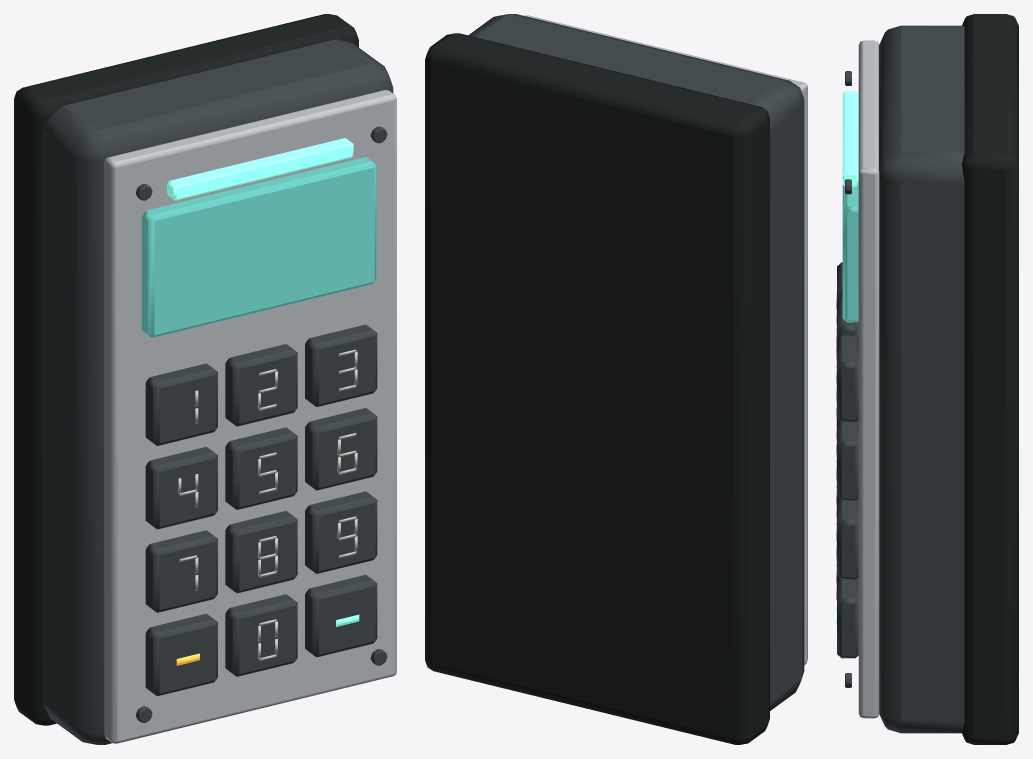
File: LP_Keypad.fbx
The picture shows the model from 3 angles, left to right: view 1: azimuth 30°, elevation 25°; view 2: azimuth 150°, elevation 25°; view 3: azimuth 270°, elevation 25°; orthographic projection. The views are drawn at different scales.
Visible parts, largest first — view 1: Keypad; view 2: Keypad; view 3: Keypad.
Part boxes in pixels (bbox=[...]): Keypad: bbox=[14, 14, 396, 744]; Keypad: bbox=[425, 14, 807, 744]; Keypad: bbox=[836, 14, 1018, 744].
Bounding box in the file's own units: 15.5 × 28.5 × 8.
